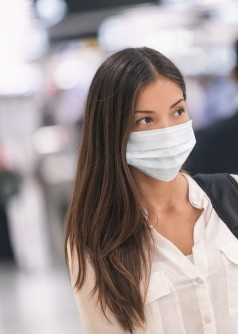with_mask: (103, 77, 201, 182)
